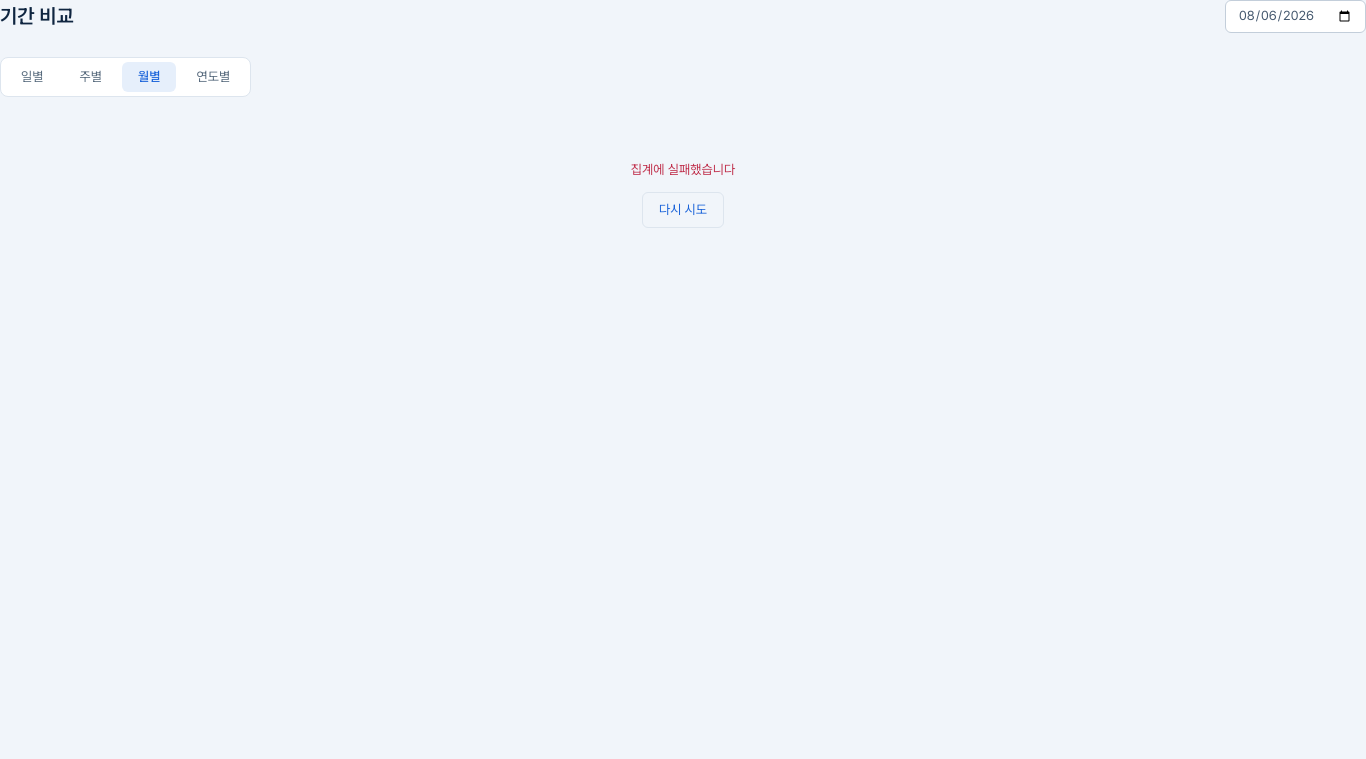
Test: 불러오기 실패 › 사유와 재시도를 준다
Expected: the text "집계에 실패했습니다" is shown, [631, 162, 735, 177]
Click the button "다시 시도".
click(683, 210)  # box [642, 192, 724, 228]
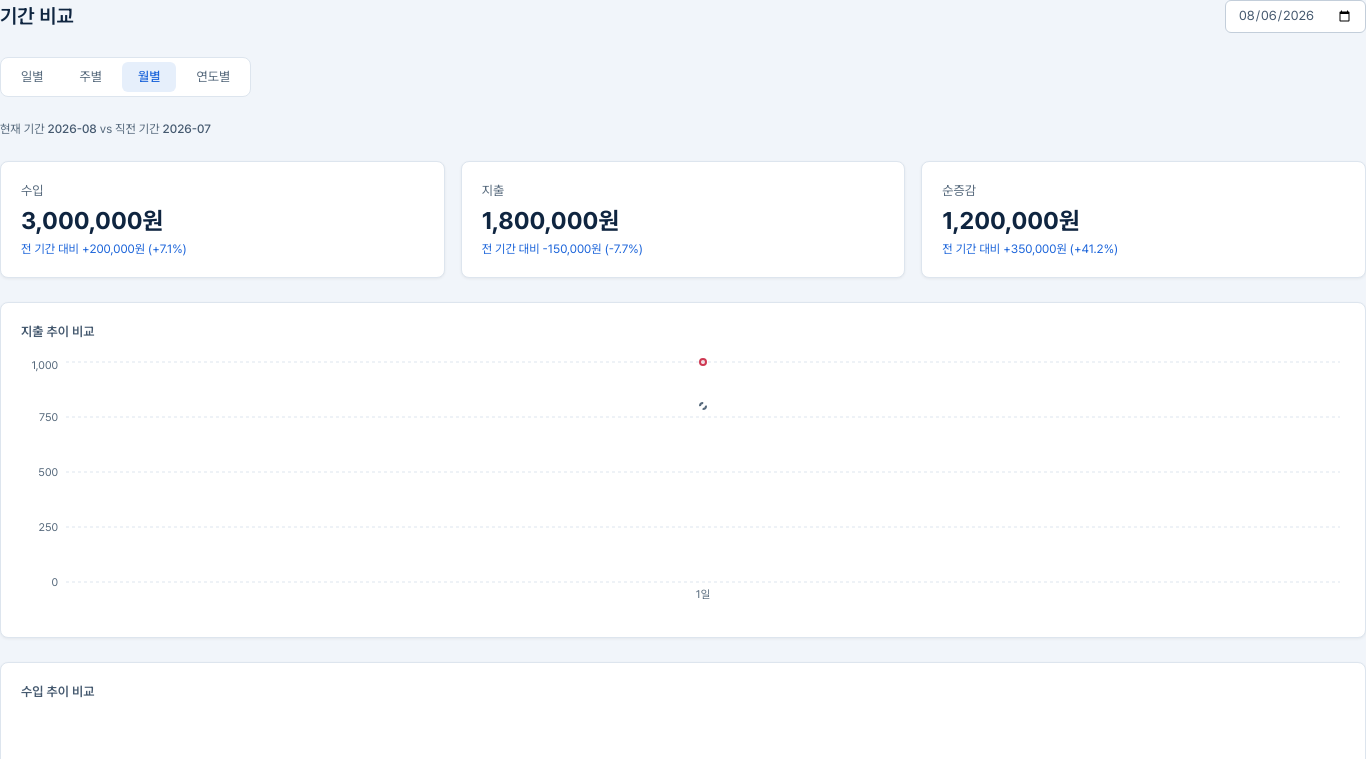
Expected: the text "2026-08" is shown, [48, 122, 97, 136]
